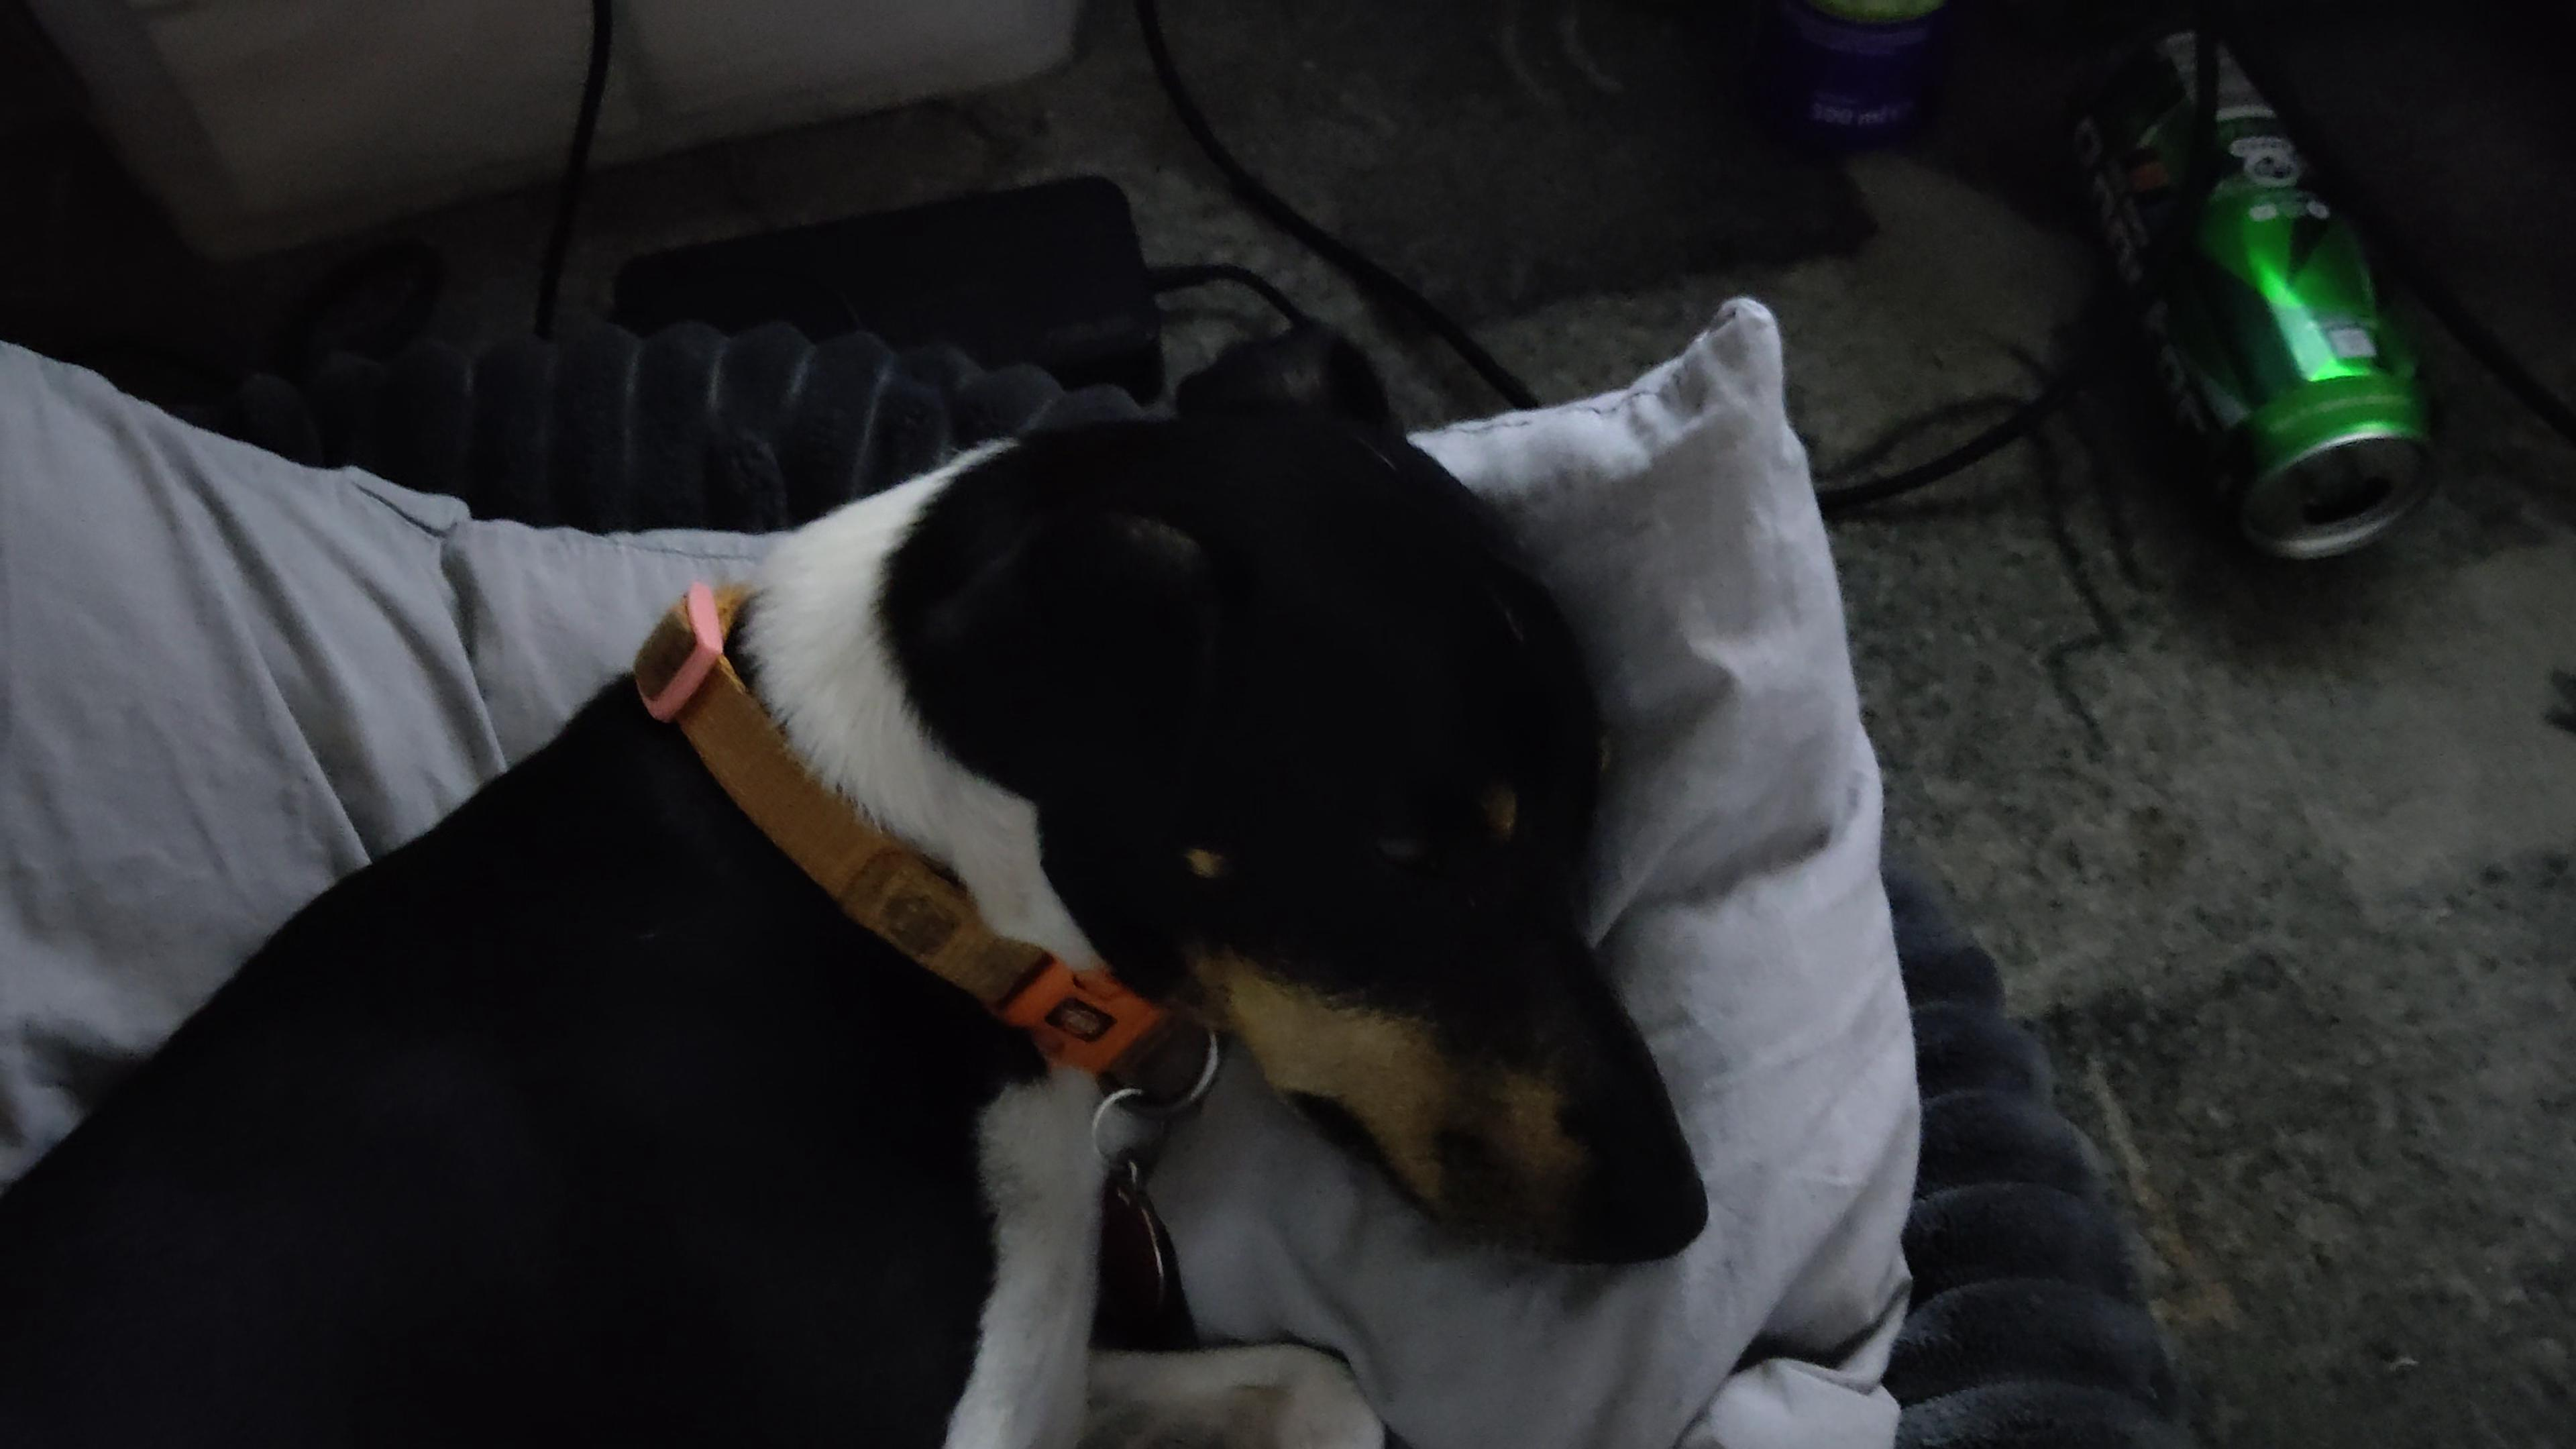Dog: (0, 292, 1757, 1449)
